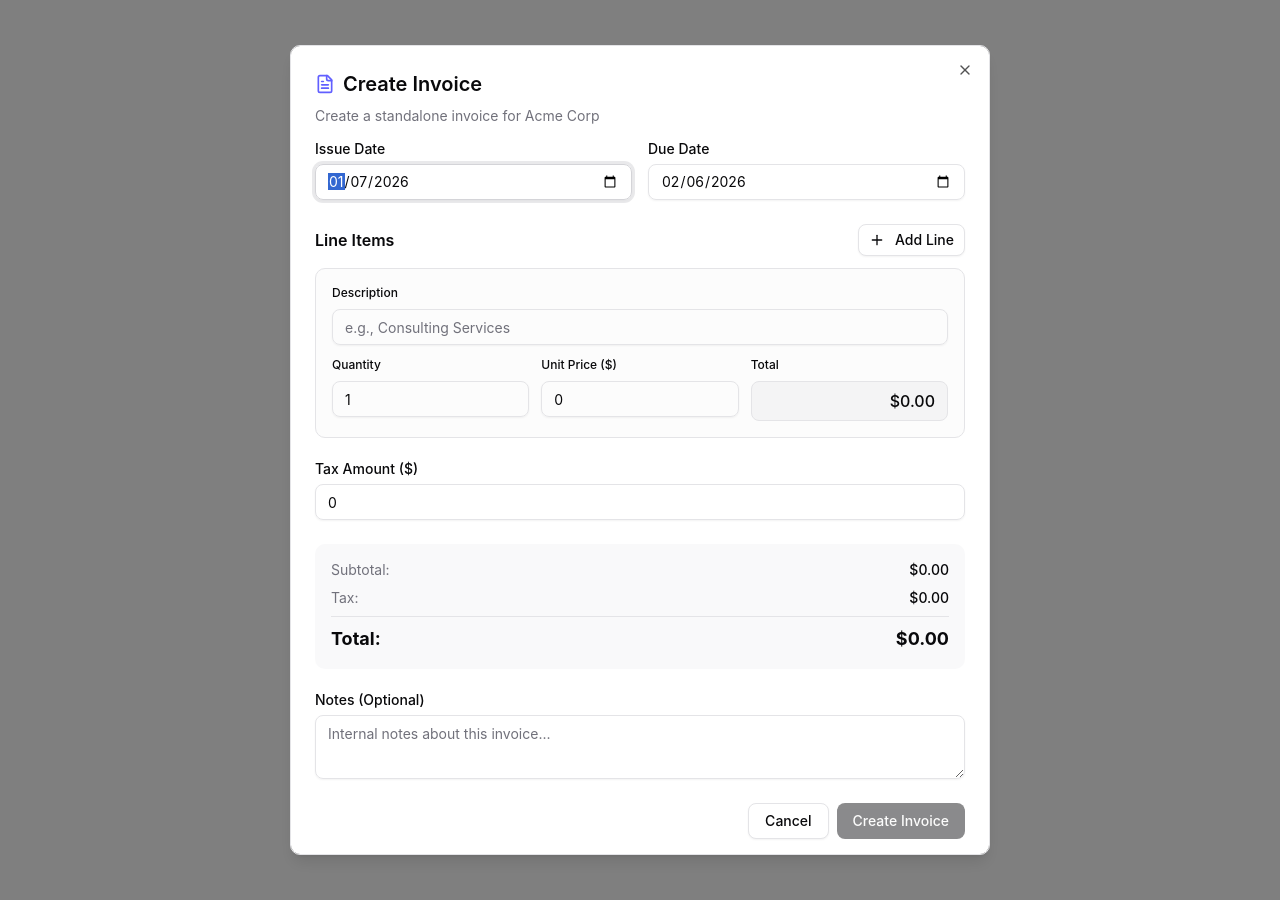
it: CreateStandaloneInvoiceDialog › Form Submission › should show error message when submission fails
Type "Test Service" into the field with placeholder "e.g., Consulting Services".
click(640, 327); type("Test Service")  # box 332,309 -> 948,345
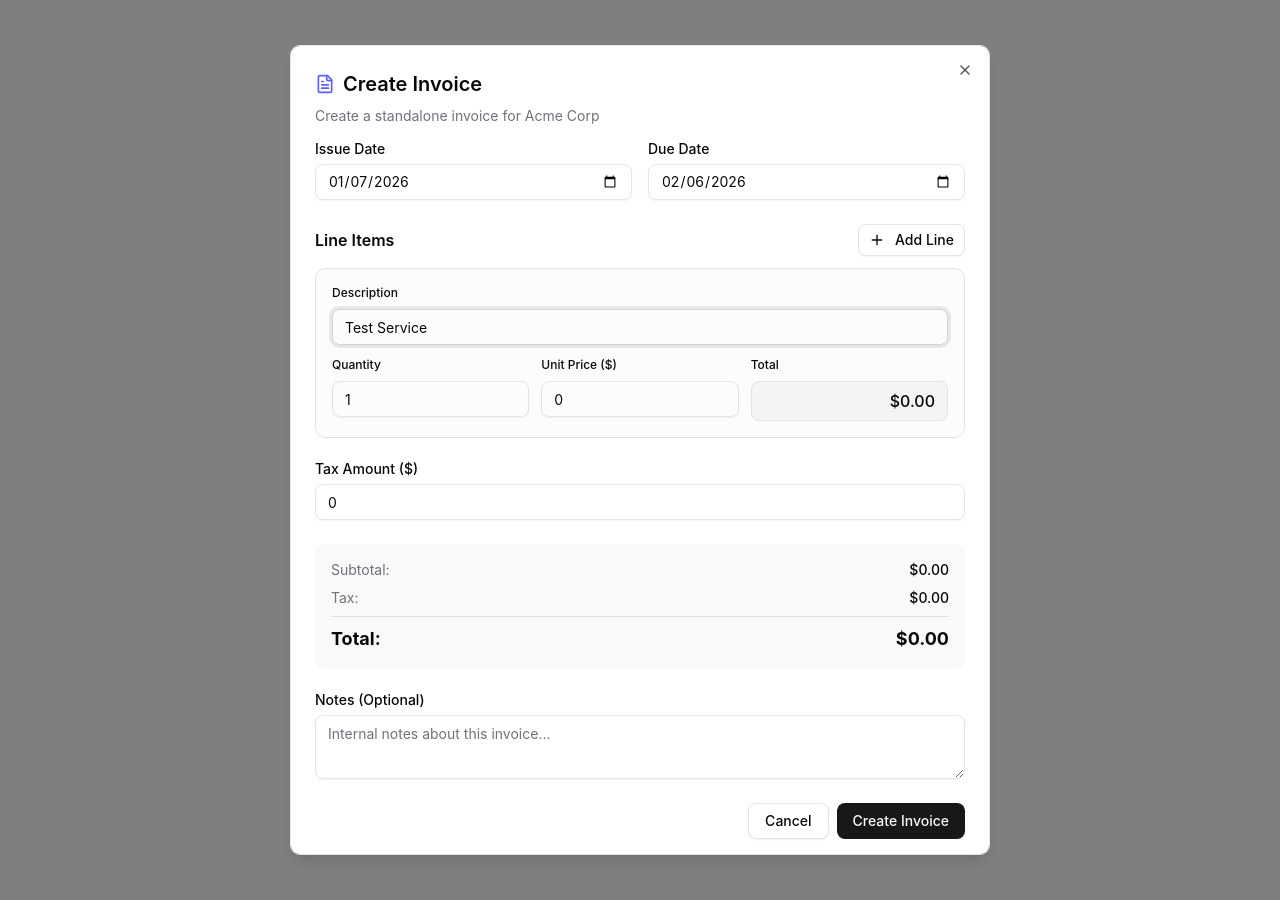
Click the button "Create Invoice".
click(901, 821)  # box 837,803 -> 965,839
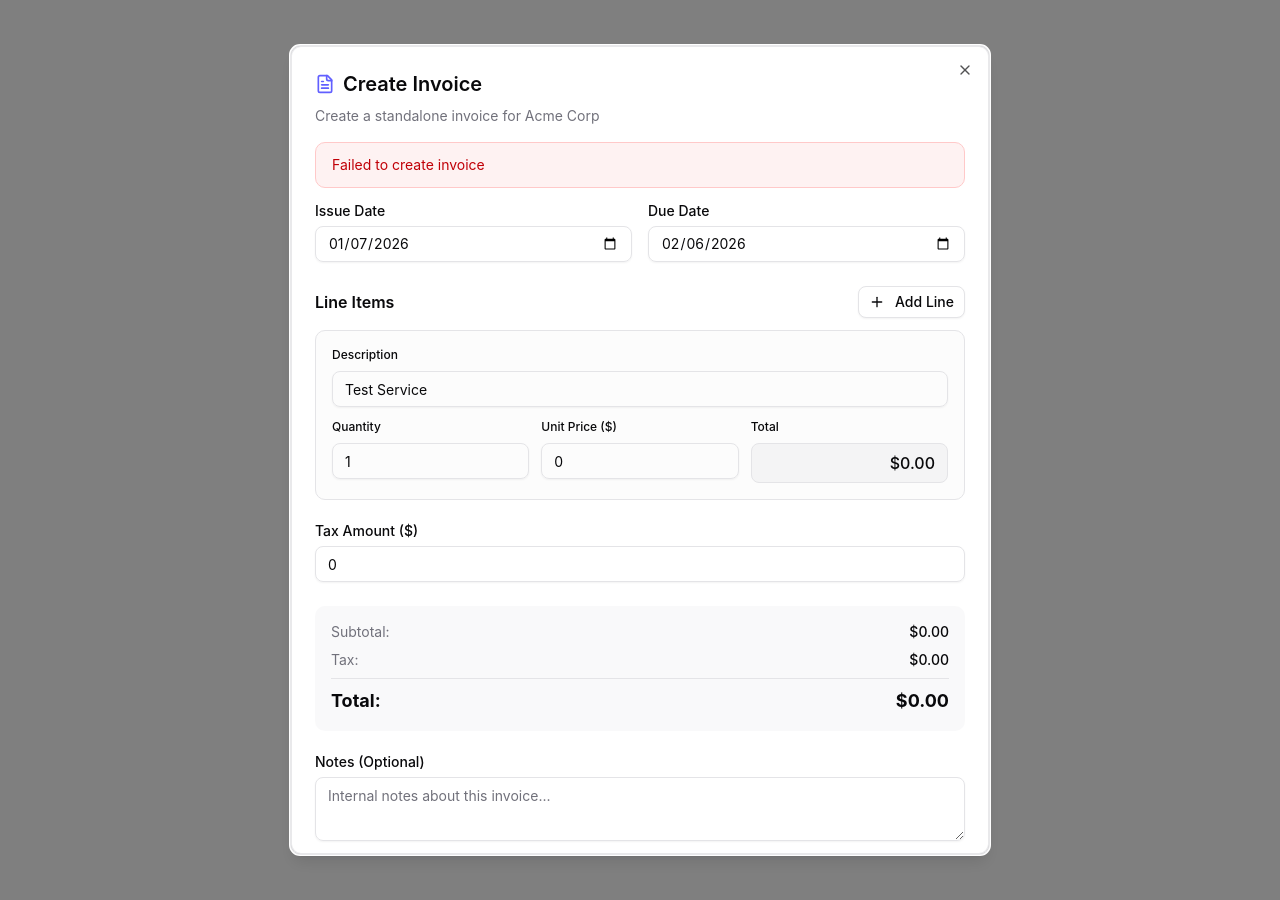
Now the text "Failed to create invoice" is shown, box 315,142 -> 965,188
